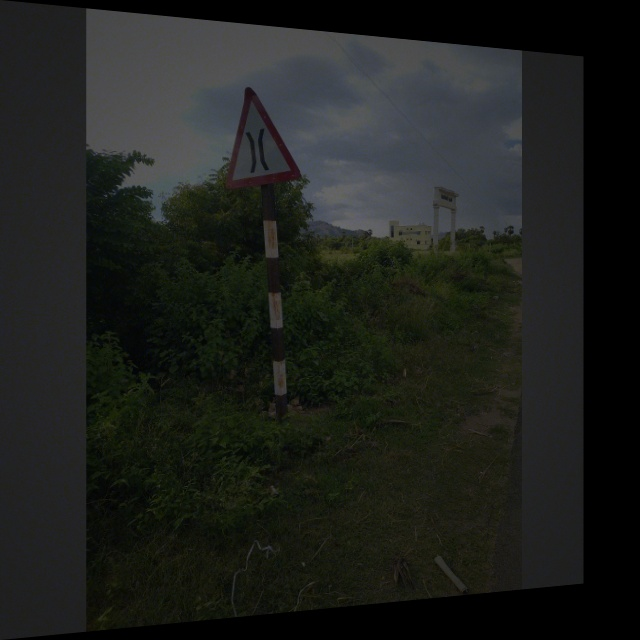Narrow_Bridge: (215, 79, 309, 190)
